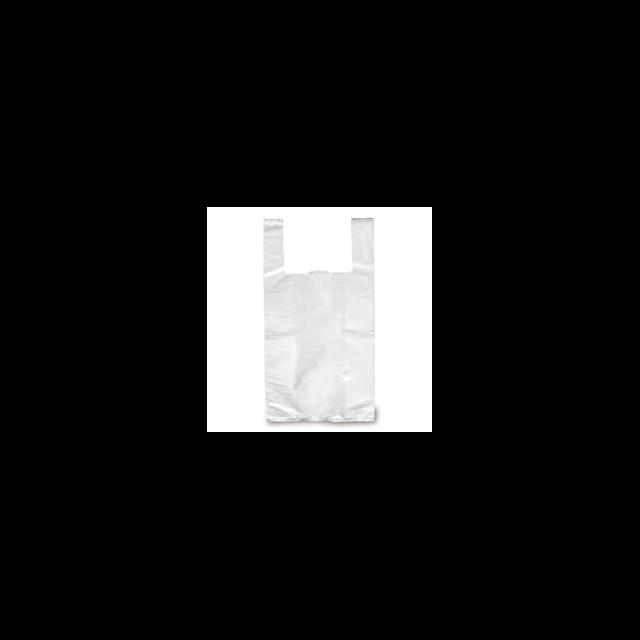plastic: (262, 216, 376, 422)
